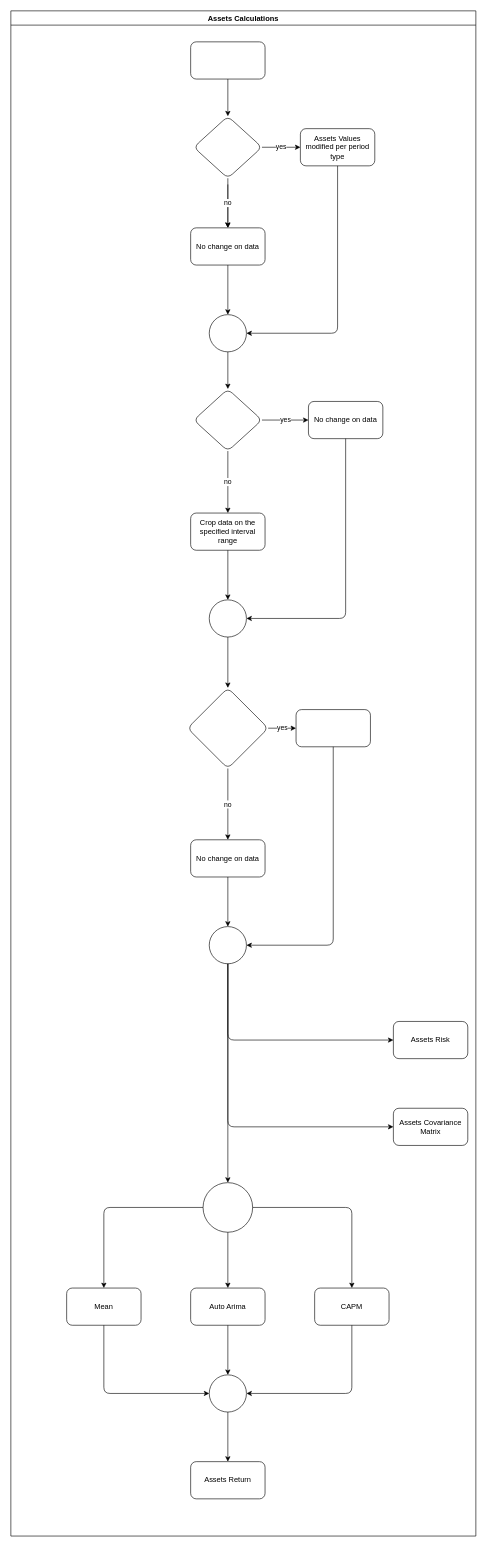
Some shapes in this 487 by 1547 pixel diagram are drawn without their labels. The shapes that lost their labels are listed below. From the top down, each one's centre as x and y in pixels, then its label:
At (x=227, y=60): "Assets Values".
At (x=227, y=147): "Change interval type?".
At (x=227, y=419): "Data already on interval range?".
At (x=227, y=727): "Apply Moving Average or Exponential MV?".
At (x=332, y=728): "Assets Values Modified by Moving Average type".
At (x=227, y=1207): "Return Calculation Method".
